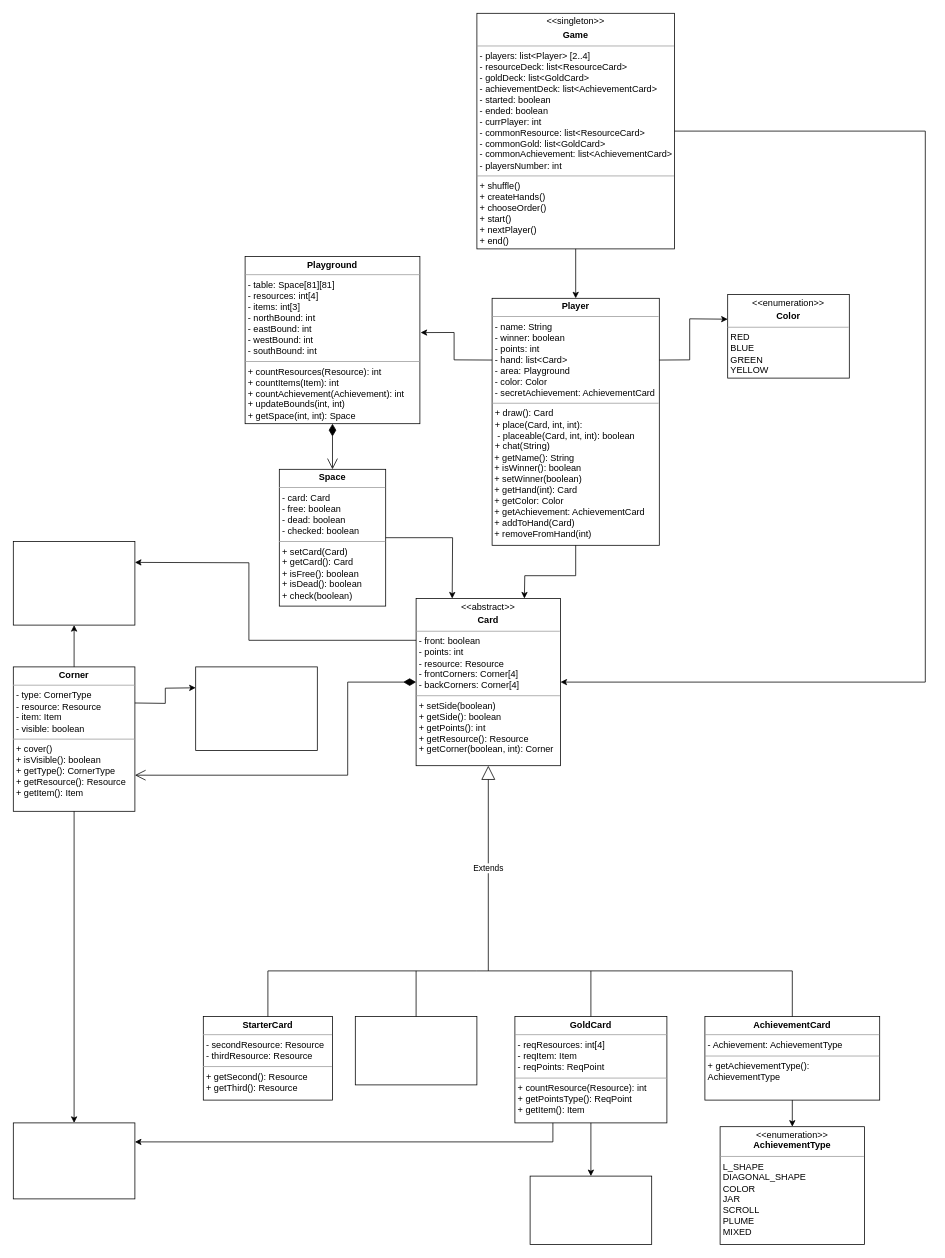
Some shapes in this 945 by 1258 pixel diagram are drawn without their labels. The box of each missing label's shape, as (x1, y1, x2, y2) in pixels:
<<enumeration>> CornerType RESOURCE ITEM FREE DEAD: (195, 666, 317, 750)
<<enumeration>> Item JAR SCROLL PLUME: (13, 1122, 135, 1199)
<<enumeration>> ReqPoint CORNER ITEM: (529, 1175, 652, 1244)
<<enumeration>> Resource WOLF BUTTERFLY LEAF MUSHROOM: (13, 541, 135, 625)
ResourceCard: (355, 1016, 477, 1085)
